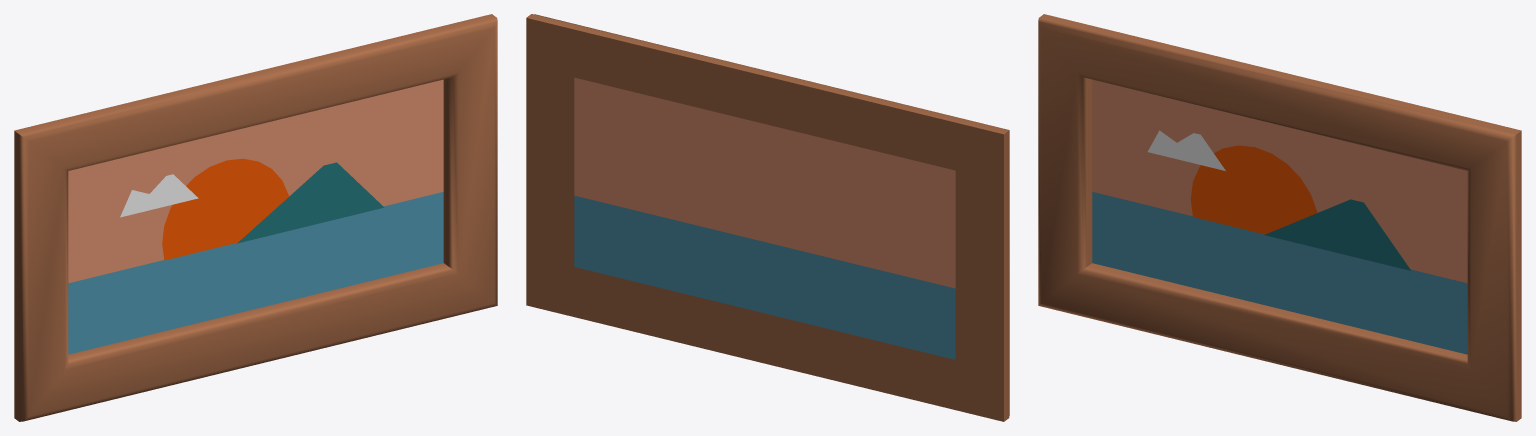
The model's file is Draw 01.fbx.
3 views of the same model, side by side, from view 1: azimuth 30°, elevation 25°; view 2: azimuth 150°, elevation 25°; view 3: azimuth 330°, elevation 25° (orthographic).
Visible parts, largest first — view 1: Cube.063, Circle.020, Plane.054, Plane.055; view 2: Cube.063; view 3: Cube.063, Circle.020, Plane.054, Plane.055.
Part boxes in pixels (bbox=[...]): Cube.063: bbox=[14, 14, 497, 421]; Circle.020: bbox=[162, 158, 288, 260]; Plane.054: bbox=[237, 162, 384, 243]; Plane.055: bbox=[120, 174, 198, 217]; Cube.063: bbox=[526, 14, 1009, 421]; Cube.063: bbox=[1038, 14, 1521, 421]; Circle.020: bbox=[1190, 145, 1317, 234]; Plane.054: bbox=[1264, 199, 1411, 270]; Plane.055: bbox=[1147, 130, 1225, 170].
Bounding box in the file's own units: 39.94 × 22.97 × 1.25.
